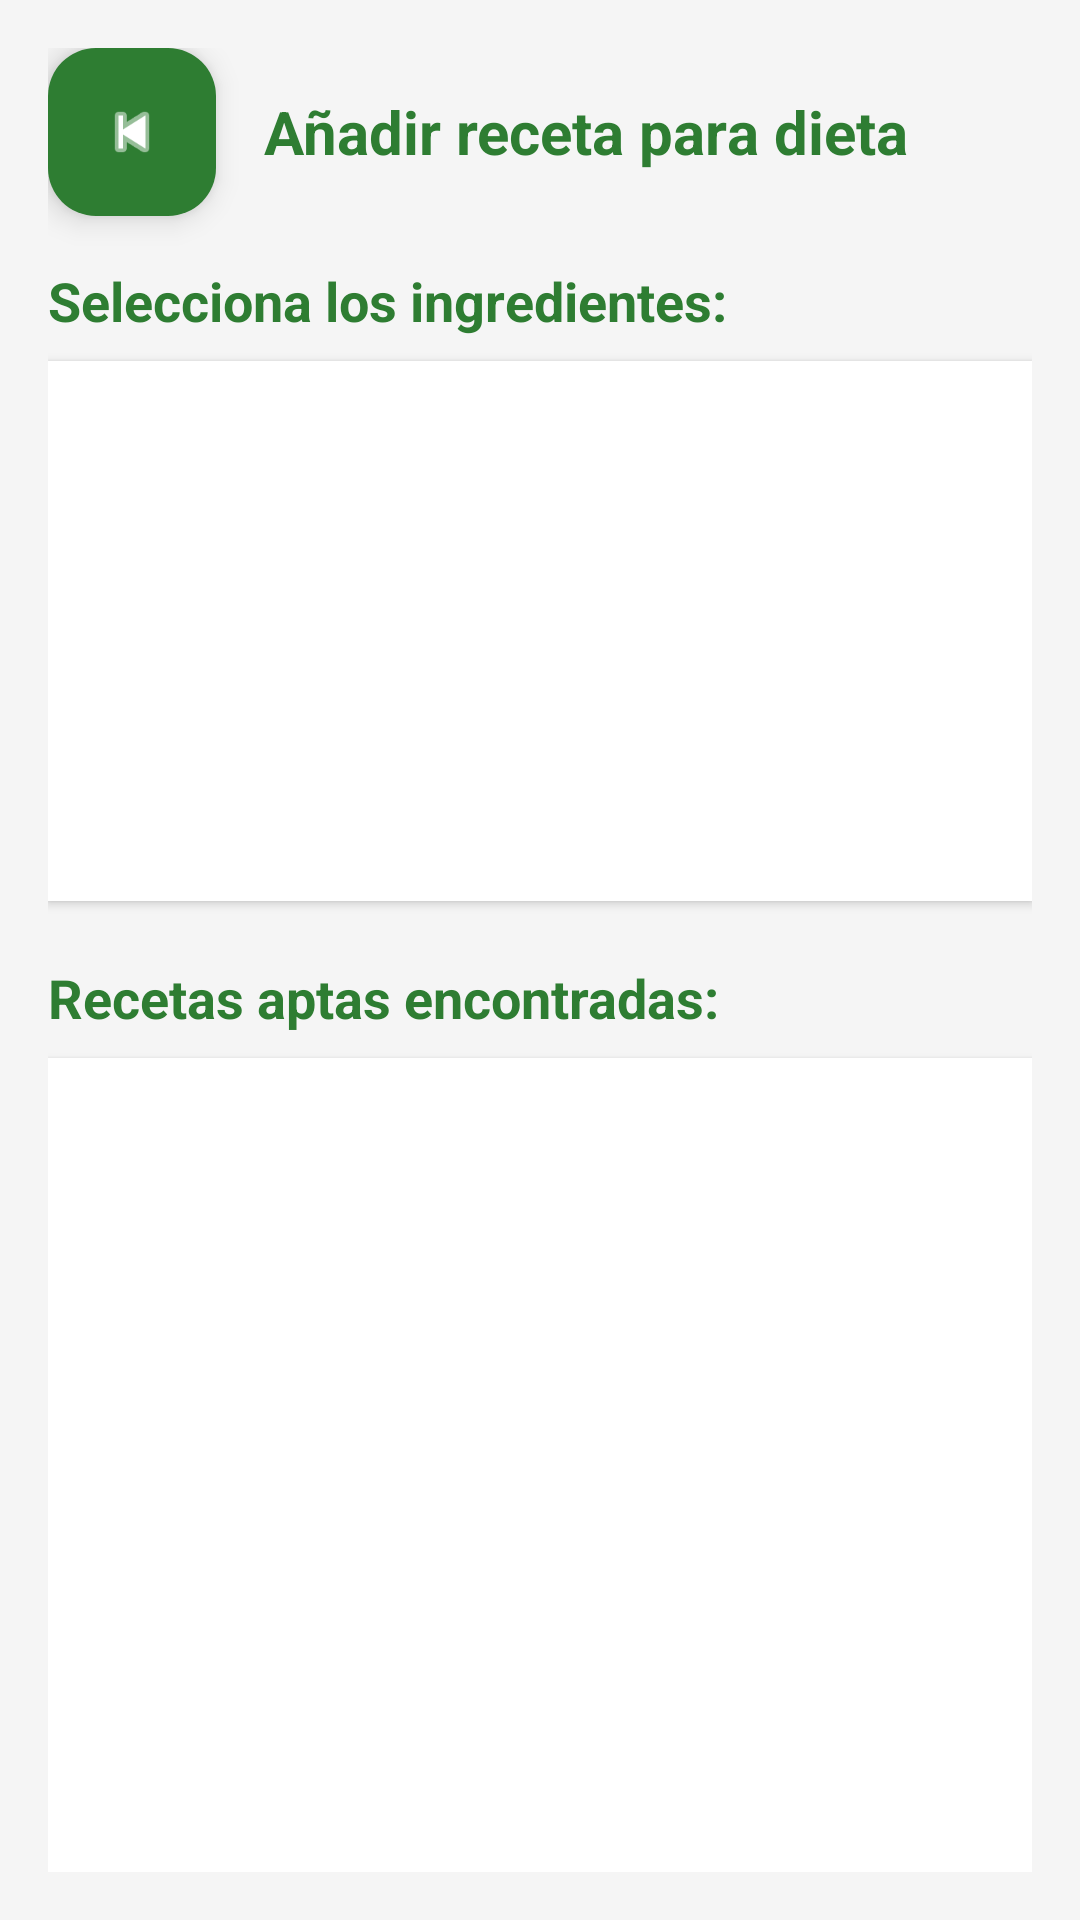

Point at icon controls on the screen. Image size 1080px x 1920px, points as (x=x, y=y).
Volver atrás: (x=132, y=132)
